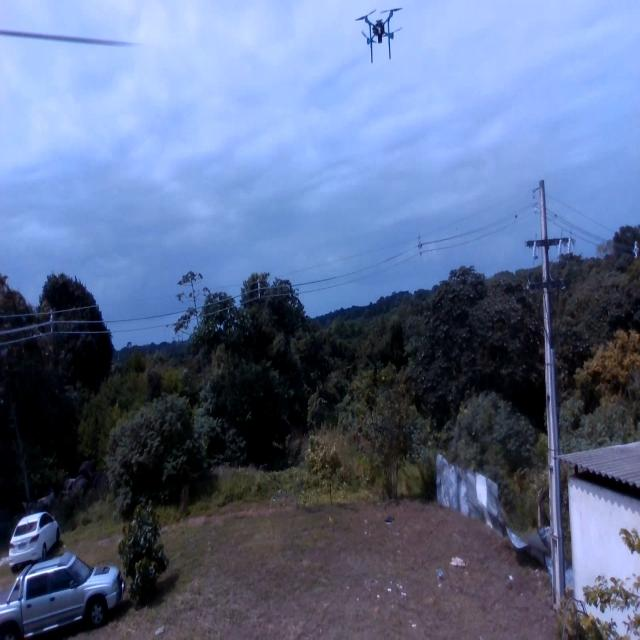-uav-: (350, 6, 418, 67)
